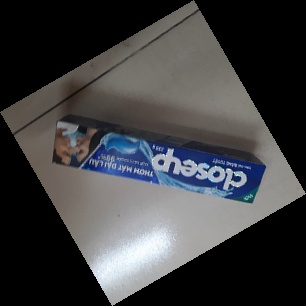CloseUp Tuyet: (50, 114, 266, 206)
